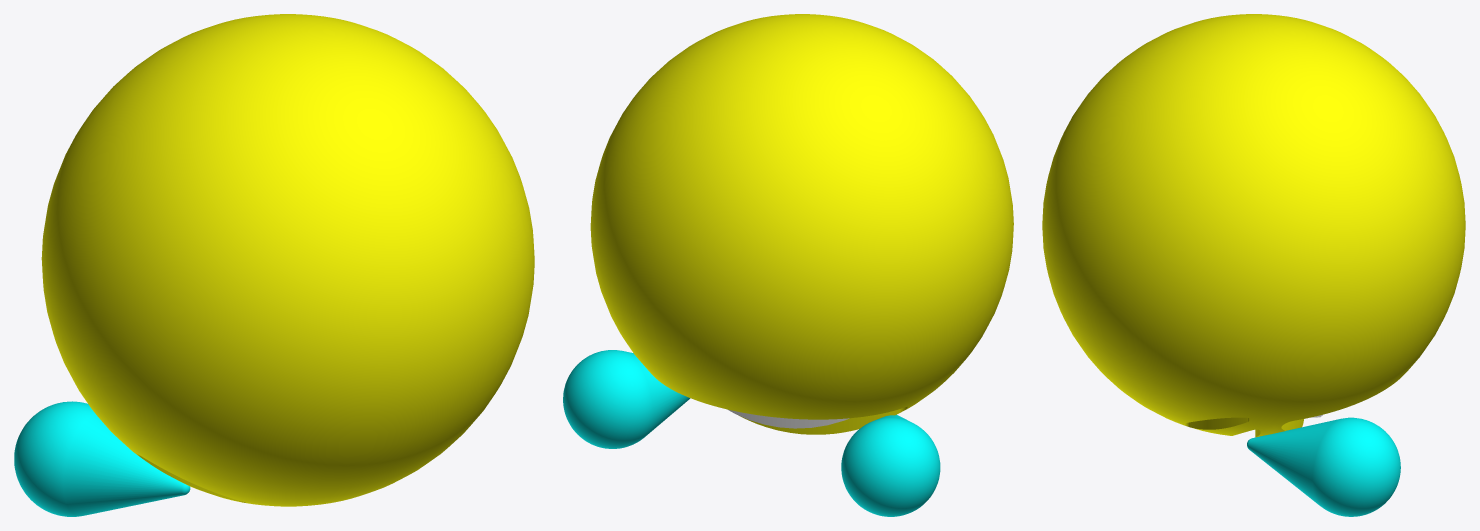
File: cryingwlaugh.fbx
The picture shows the model from 3 angles, left to right: view 1: azimuth 30°, elevation 25°; view 2: azimuth 150°, elevation 25°; view 3: azimuth 270°, elevation 25°; orthographic projection. The views are drawn at different scales.
Visible parts, largest first — view 1: Object_1, Object_5; view 2: Object_1, Object_7, Object_5, Object_3; view 3: Object_1, Object_7.
Part boxes in pixels (x1,y1,x2,y2): Object_1: (41,14,534,506); Object_5: (14,401,190,516); Object_1: (590,14,1013,434); Object_7: (563,350,690,448); Object_5: (841,414,940,516); Object_3: (728,409,849,428); Object_1: (1042,14,1465,437); Object_7: (1247,417,1400,516).
Size of the model in its own units: 39.48 by 42.1 by 39.38.
